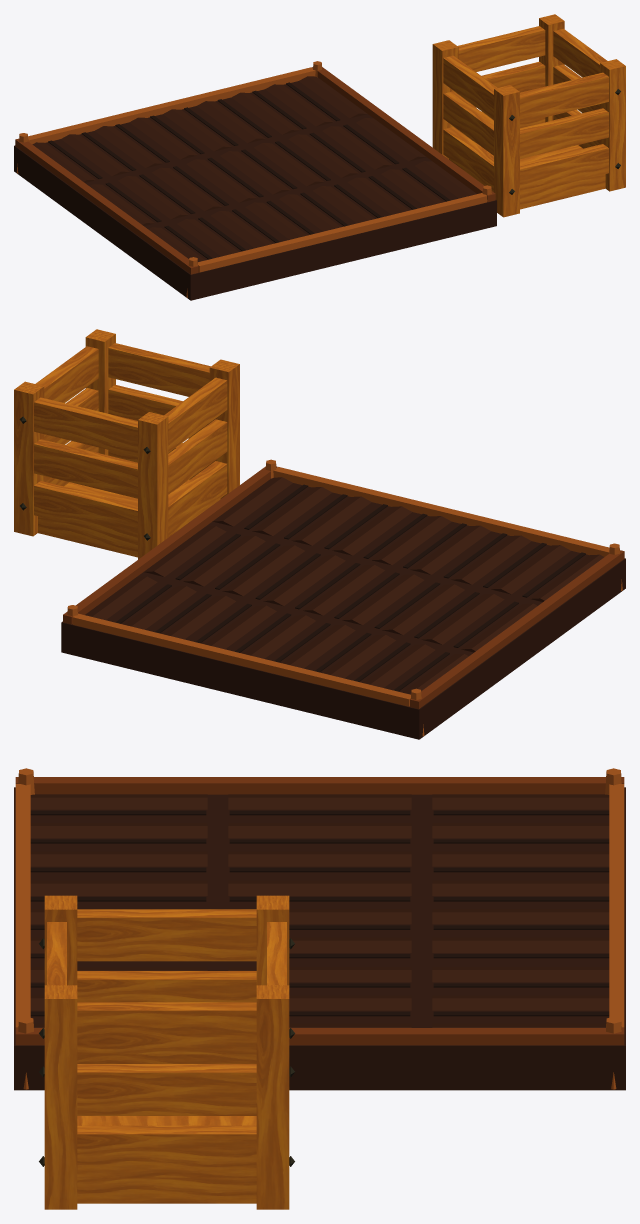
File: farm-with-box.obj
3 renders of one model, top to bottom at view 1: azimuth 30°, elevation 25°; view 2: azimuth 150°, elevation 25°; view 3: azimuth 270°, elevation 25°, orthographic. The views are drawn at different scales.
Parts seen in each view (by area): view 1: farm-with-box; view 2: farm-with-box; view 3: farm-with-box.
Boxes of the visible parts, box(x1,y1,x2,y2) form: farm-with-box: box(14, 14, 625, 300); farm-with-box: box(14, 329, 625, 739); farm-with-box: box(14, 768, 625, 1209).
Size of the model in its own units: 2.91 by 0.759 by 2.
Materials: 2 (2 with a texture image).
